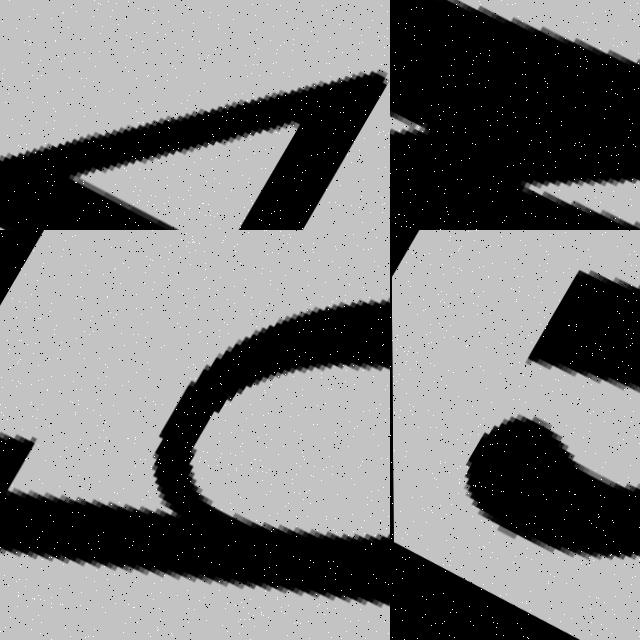D: (0, 230, 390, 640)
W: (436, 230, 640, 640), (390, 0, 640, 230)
